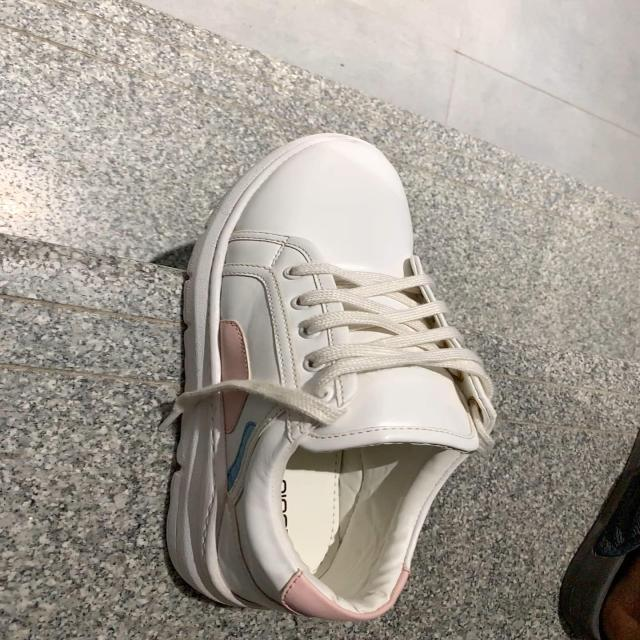shoe: (161, 134, 497, 622)
